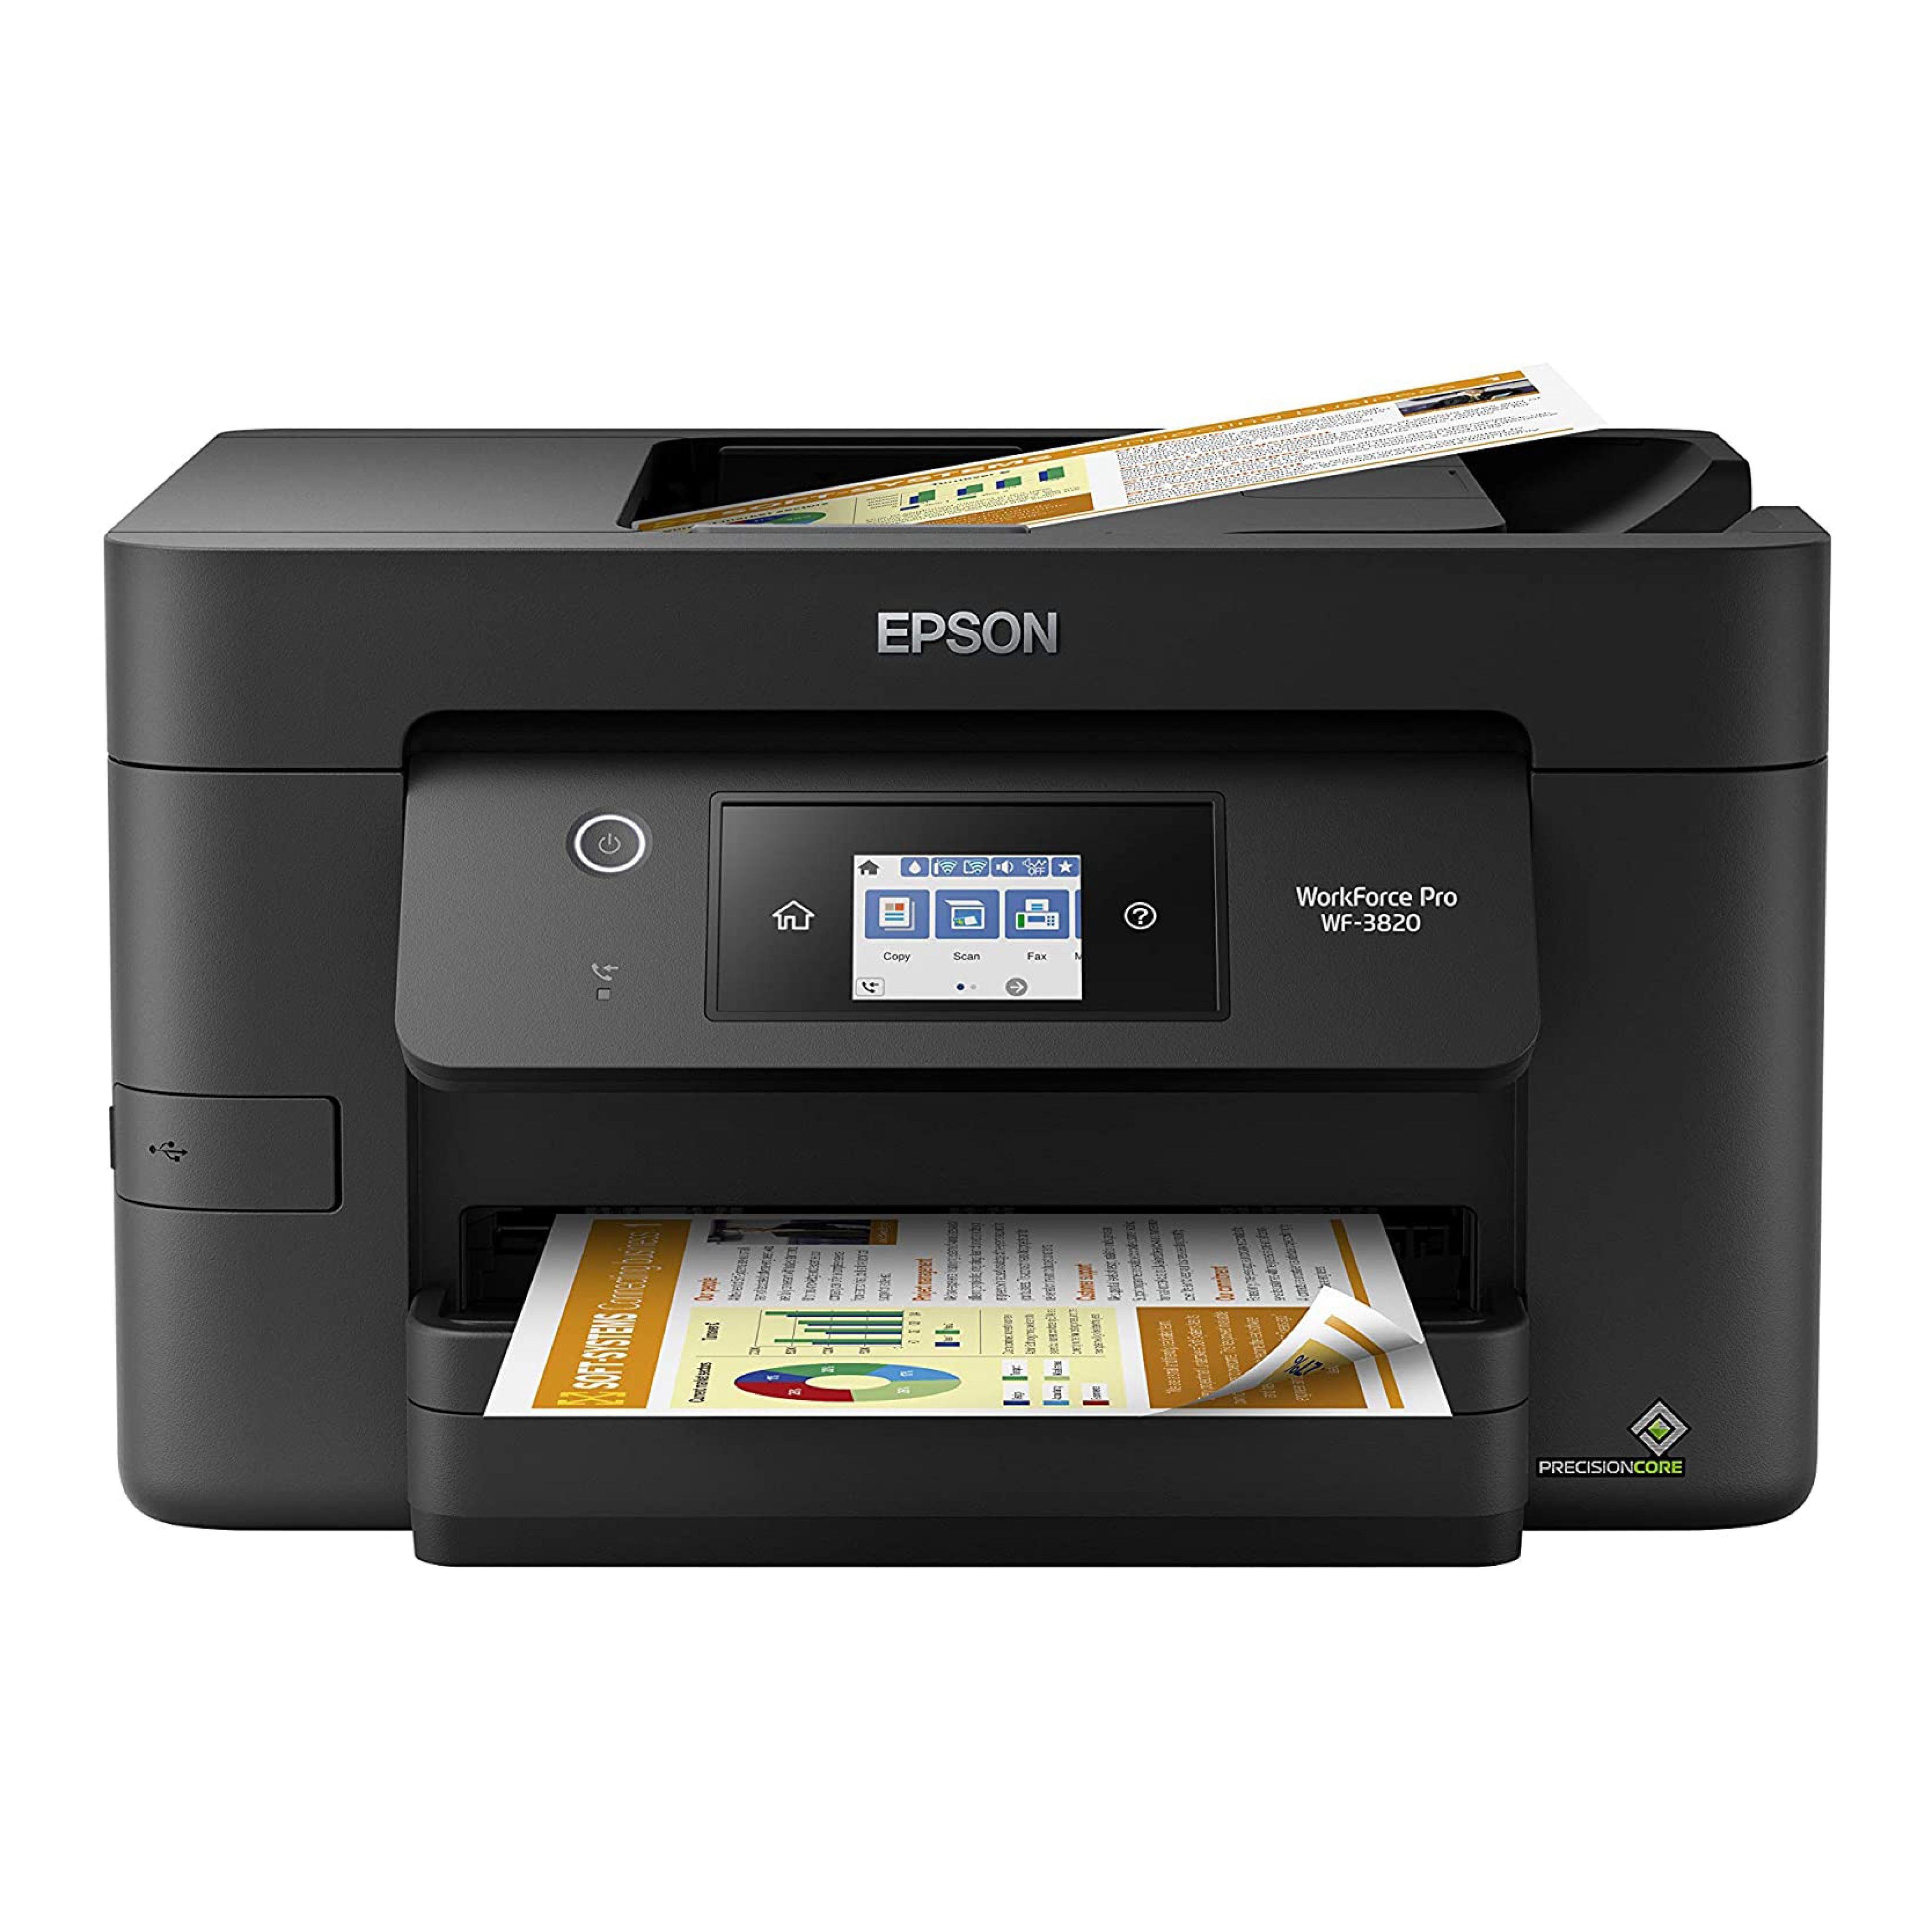printer: (81, 386, 1842, 1583)
